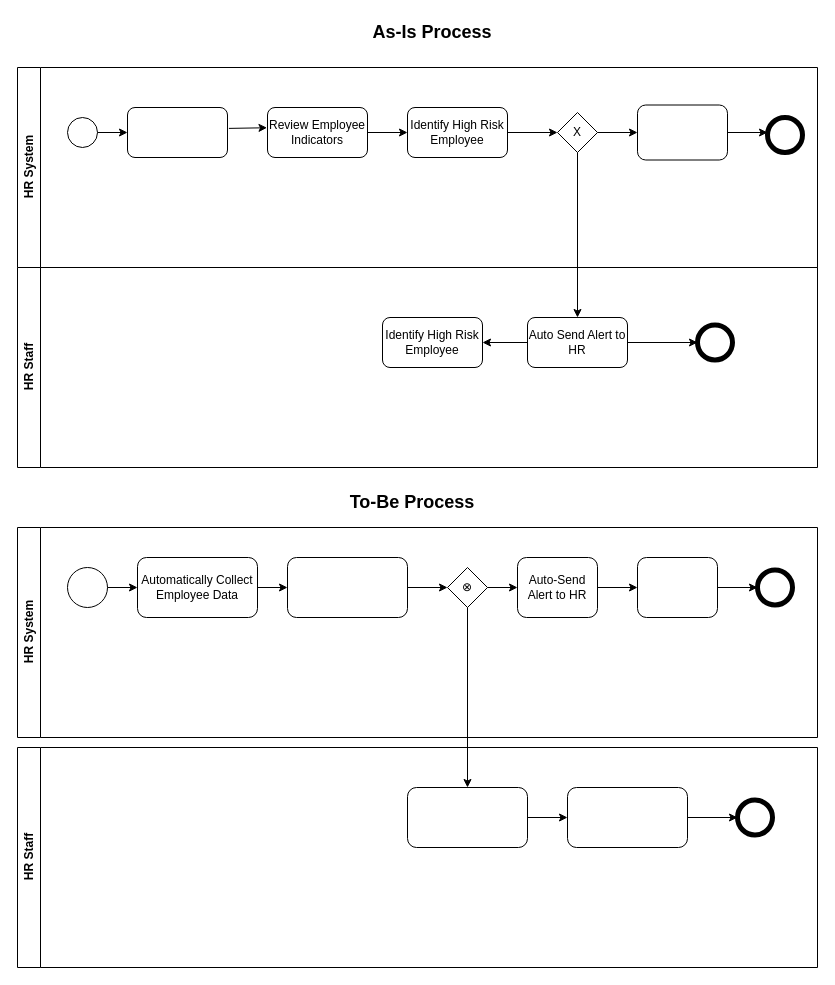
The diagram is 835 pixels wide and 985 high, and some of its shapes have lost their labels. Here are the shapes that lost their labels. From the top down, the centre of each, then its label:
At point 177,132: "Collect Employee Data".
At point 682,132: "Schedule retention meeting for alert".
At point 347,587: "Send Data for Attrition Prediction".
At point 677,587: "Continue Monitoring".
At point 467,817: "ML Engine".
At point 627,817: "Auto-Schedule Retention Meeting".
